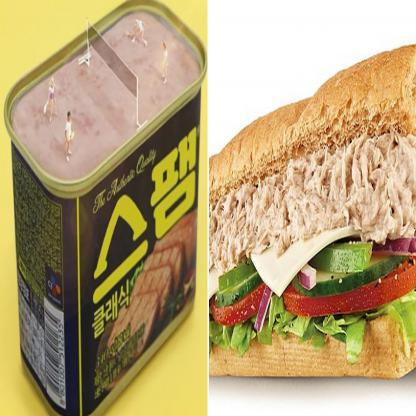spam: (13, 68, 198, 366)
